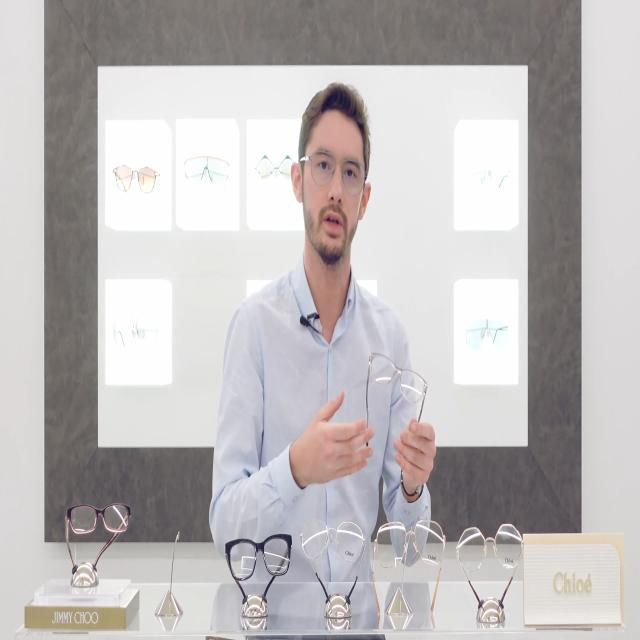dress: (212, 258, 432, 582)
glasses: (368, 351, 427, 406), (310, 148, 364, 196)
